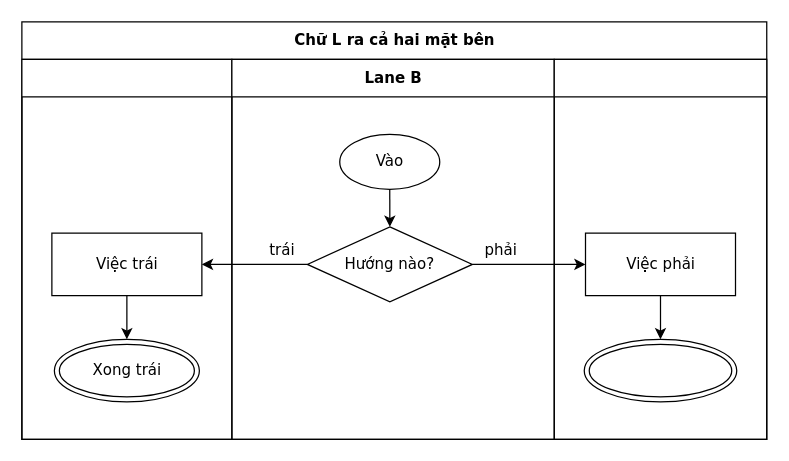
Image size: 789x461. Some labels were removed from this diagram. Here are the shapes that lost their labels. From the top down, the box of each, then its label:
(21, 58, 232, 439): Lane A
(553, 58, 767, 439): Lane C
(583, 338, 737, 402): Xong phải
